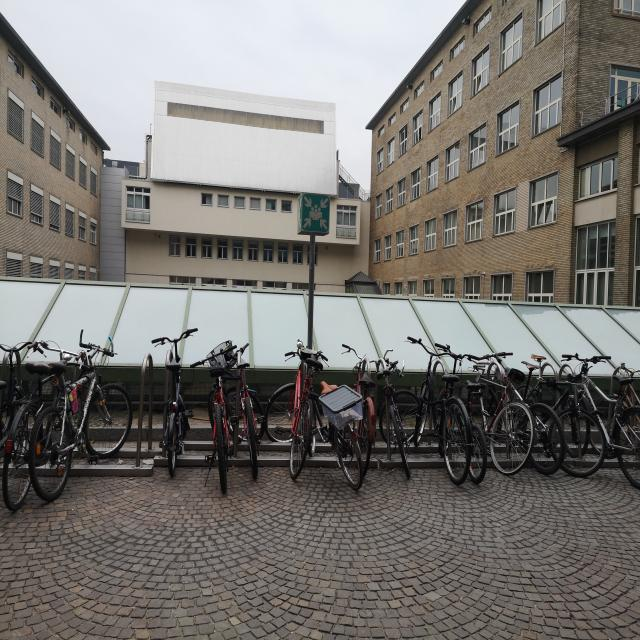Bicycle: (35, 332, 125, 524), (6, 336, 81, 525), (563, 334, 640, 518), (150, 298, 220, 482), (406, 328, 468, 494), (480, 345, 534, 492), (548, 368, 602, 504), (281, 323, 319, 499), (444, 365, 488, 513), (350, 327, 383, 506), (518, 354, 556, 498), (232, 348, 262, 489), (1, 346, 43, 441), (386, 341, 412, 491), (212, 337, 233, 501)
